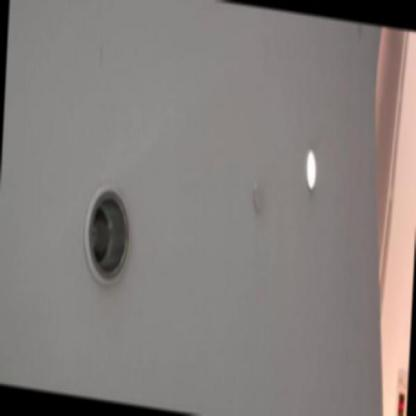light_off: (80, 159, 140, 301)
